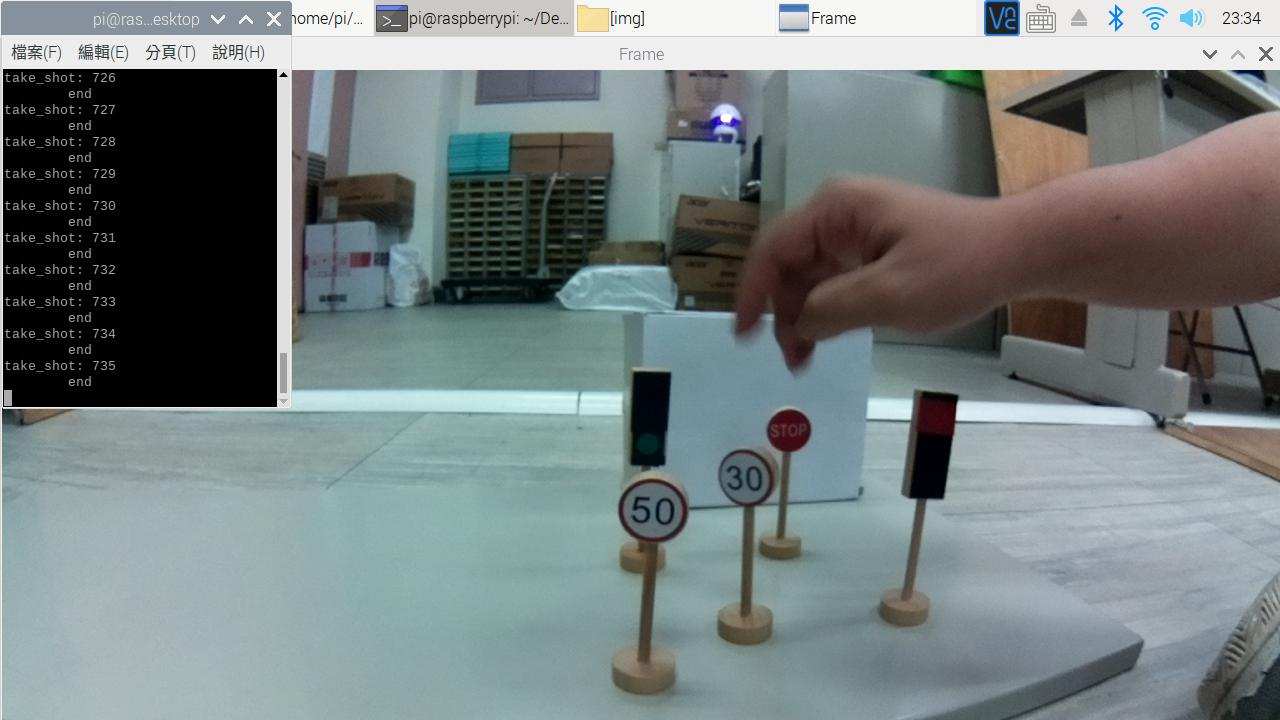Green: (625, 364, 672, 468)
Red: (911, 382, 957, 495)
Speed30: (720, 451, 776, 500)
Speed50: (616, 477, 687, 538)
Stop: (766, 400, 816, 449)
